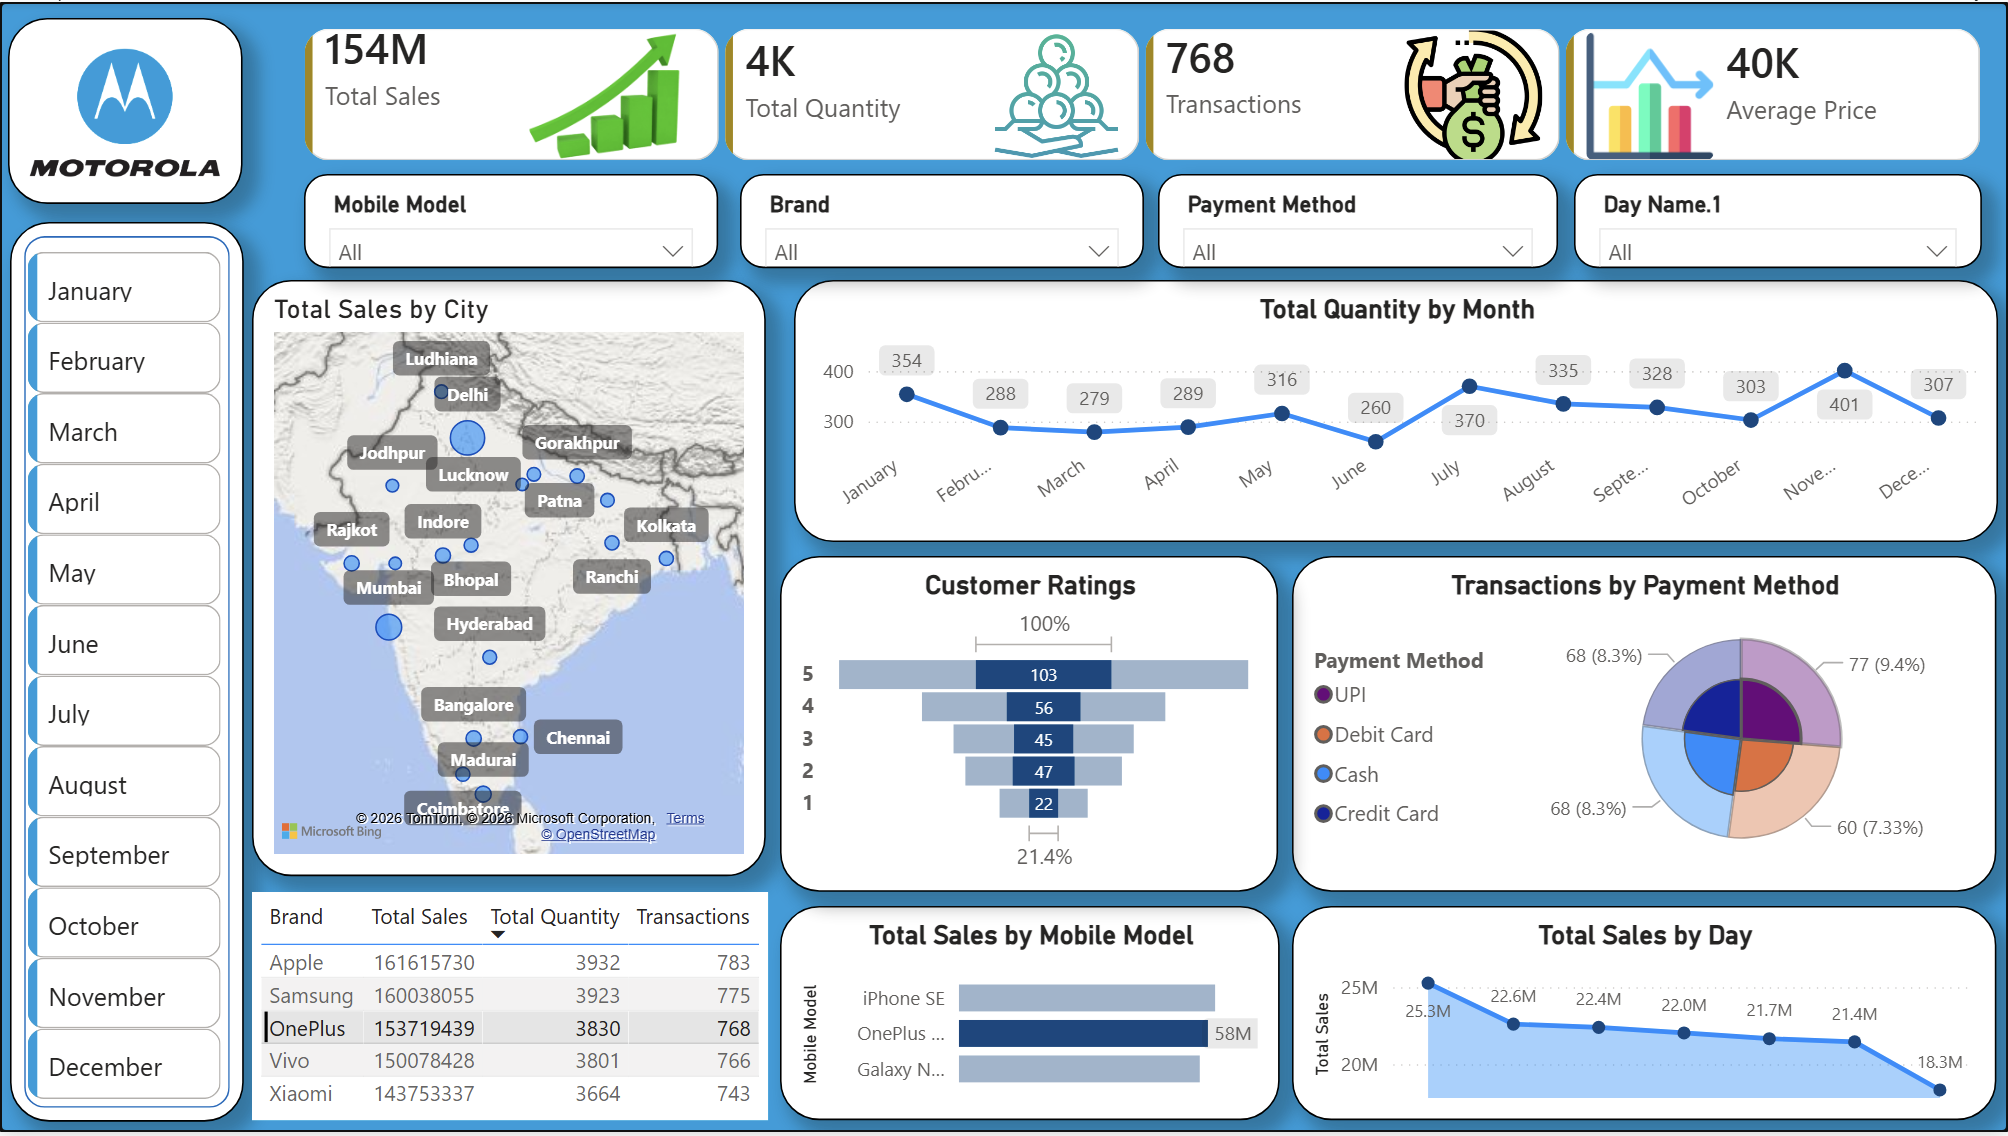

The dashboard page shown, as its layout file describes it:
{"tool":"powerbi","page":{"name":"Page 9","canvas":[1280,720],"ordinal":8},"visuals":[{"type":"shape","box":[5.2,10.4,149.6,118.4],"z":0},{"type":"image","box":[15.6,11.7,126.2,118.4],"z":1000},{"type":"shape","box":[6.4,140.2,149.2,573.7],"z":2000},{"type":"advancedSlicerVisual","fields":{"Values":["project.Date.Variation.Date Hierarchy.Month"]},"box":[12.7,154.3,133.9,558.4],"z":3000},{"type":"cardVisual","fields":{"Data":["project.Total Sales","project.Total Quantity","project.Transactions","project.Average Price"]},"box":[177.2,0,1102.8,118.6],"z":4000},{"type":"map","fields":{"Category":["project.City"],"Size":["project.Total Sales"]},"box":[160.6,177.2,327.6,379.9],"z":5000},{"type":"lineChart","fields":{"Y":["project.Total Quantity"],"Category":["project.Date.Variation.Date Hierarchy.Month","project.Date.Variation.Date Hierarchy.Day"]},"box":[506.1,177.2,767.5,167],"z":5001},{"type":"clusteredBarChart","fields":{"Category":["project.Mobile Model"],"Y":["project.Total Sales"]},"box":[497.2,576.3,318.7,136.4],"z":5002},{"type":"pieChart","fields":{"Category":["project.Payment Method"],"Y":["project.Transactions"]},"box":[823.6,353.1,448.8,214.2],"z":5003},{"type":"funnel","title":"Customer Ratings","fields":{"Category":["project.Customer Ratings"],"Y":["CountNonNull(project.Customer Ratings)"]},"box":[497.2,353.1,317.5,214.2],"z":5004},{"type":"areaChart","title":"Total Sales by Day","fields":{"Category":["project.Day Name.1"],"Y":["project.Total Sales"]},"box":[823.6,576.3,448.8,136.4],"z":5005},{"type":"tableEx","fields":{"Values":["project.Brand","project.Total Sales","project.Total Quantity","project.Transactions"]},"box":[160.6,567.3,328.9,145.3],"z":5006},{"type":"slicer","fields":{"Values":["project.Mobile Model"]},"box":[193.8,109.6,263.9,59.9],"z":5007},{"type":"slicer","fields":{"Values":["project.Brand"]},"box":[471.7,109.6,257.5,59.9],"z":5008},{"type":"slicer","fields":{"Values":["project.Payment Method"]},"box":[738.2,109.6,255,59.9],"z":5009},{"type":"slicer","fields":{"Values":["project.Day Name.1"]},"box":[1003.3,109.6,260.1,59.9],"z":5010}]}

Visuals, with their boxes in screenshot pixels (x1, y1, x2, y2), scaled from the page's 1280x720 canvas onto the 2008x1136 screenshot:
shape: (8, 16, 243, 203)
image: (24, 18, 222, 205)
shape: (10, 221, 244, 1126)
advancedSlicerVisual - project.Date.Variation.Date Hierarchy.Month: (20, 243, 230, 1124)
cardVisual - project.Total Sales x project.Total Quantity: (278, 0, 2007, 187)
map - project.City x project.Total Sales: (252, 280, 766, 879)
lineChart - project.Total Quantity x project.Date.Variation.Date Hierarchy.Month: (794, 280, 1998, 543)
clusteredBarChart - project.Mobile Model x project.Total Sales: (780, 909, 1280, 1124)
pieChart - project.Payment Method x project.Transactions: (1292, 557, 1996, 895)
"Customer Ratings" funnel: (780, 557, 1278, 895)
"Total Sales by Day" areaChart: (1292, 909, 1996, 1124)
tableEx - project.Brand x project.Total Sales: (252, 895, 768, 1124)
slicer - project.Mobile Model: (304, 173, 718, 267)
slicer - project.Brand: (740, 173, 1144, 267)
slicer - project.Payment Method: (1158, 173, 1558, 267)
slicer - project.Day Name.1: (1574, 173, 1982, 267)
